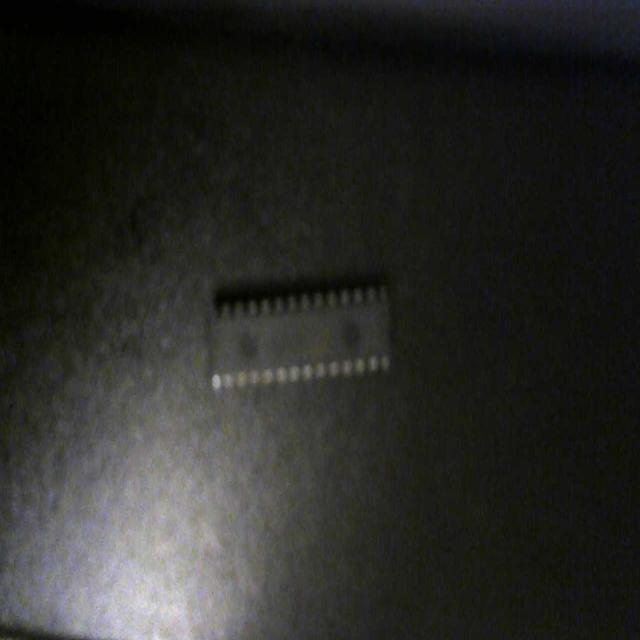atmega: (206, 268, 397, 400)
